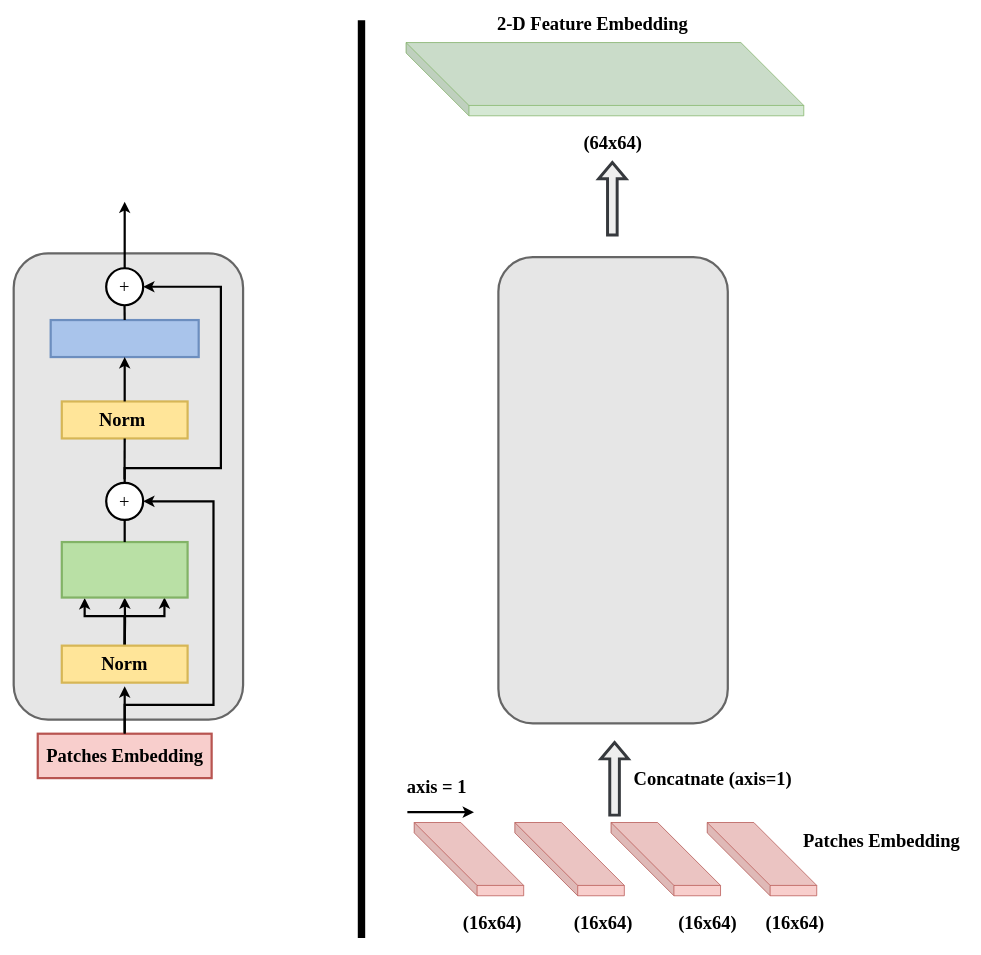
Image size: 981x955. Some labels were removed from this diagram. Each missing label, with the centre of its shape:
Fully-connected: point 124,338
Multi-head Attention: point 124,569
Transformer Encoder: point 613,490
